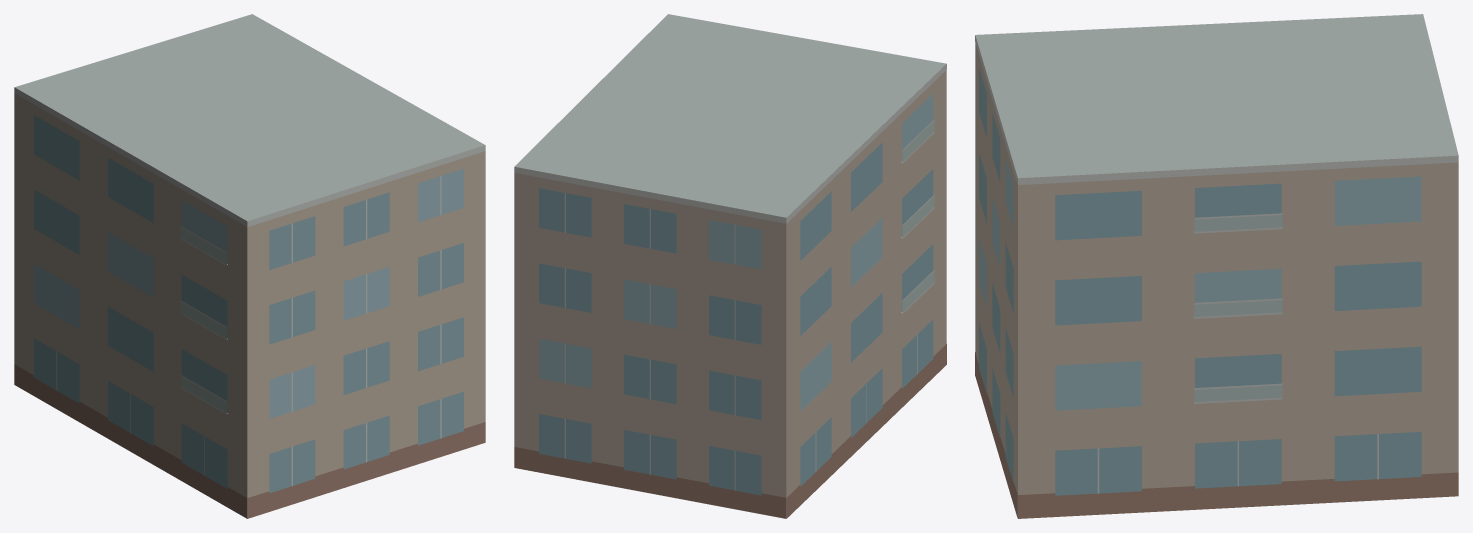
The model's file is survey-upis-32663619.glb.
3 views of the same model, side by side, from view 1: azimuth 30°, elevation 25°; view 2: azimuth 150°, elevation 25°; view 3: azimuth 270°, elevation 25° (orthographic). The views are drawn at different scales.
Parts seen in each view (by area): view 1: survey-upis-32663619.tmp; view 2: survey-upis-32663619.tmp; view 3: survey-upis-32663619.tmp.
Boxes of the visible parts, box(x1,y1,x2,y2) form: survey-upis-32663619.tmp: box(14, 14, 485, 518); survey-upis-32663619.tmp: box(514, 14, 946, 518); survey-upis-32663619.tmp: box(975, 14, 1458, 518).
Size of the model in its own units: 12.63 by 12.2 by 15.71.
